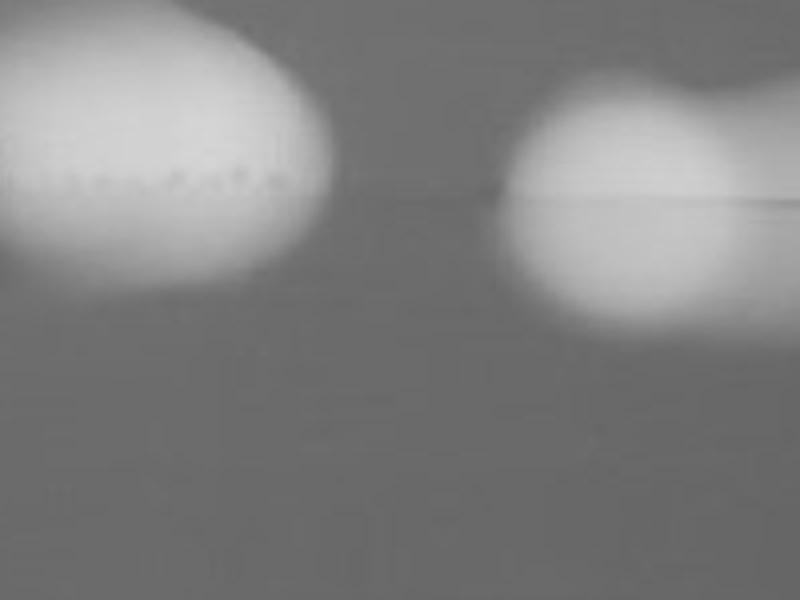defect: (165, 162, 189, 190), (199, 169, 220, 193), (270, 172, 292, 194), (234, 164, 251, 190)
